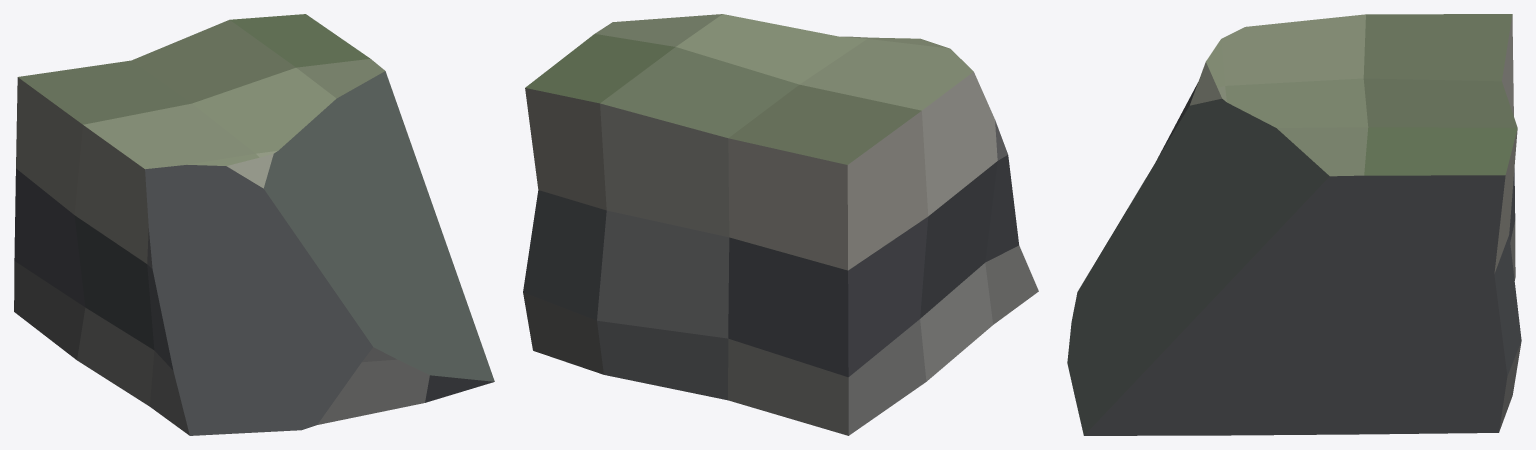
3 views of the same model, side by side, from view 1: azimuth 30°, elevation 25°; view 2: azimuth 150°, elevation 25°; view 3: azimuth 270°, elevation 25° (orthographic). The views are drawn at different scales.
Parts seen in each view (by area): view 1: env_rock_large; view 2: env_rock_large; view 3: env_rock_large.
Part boxes in pixels (x1,y1,x2,y2): env_rock_large: (14, 14, 494, 435); env_rock_large: (523, 14, 1038, 435); env_rock_large: (1067, 14, 1521, 435).
Bounding box in the file's own units: 1.72 × 1.34 × 2.05.
